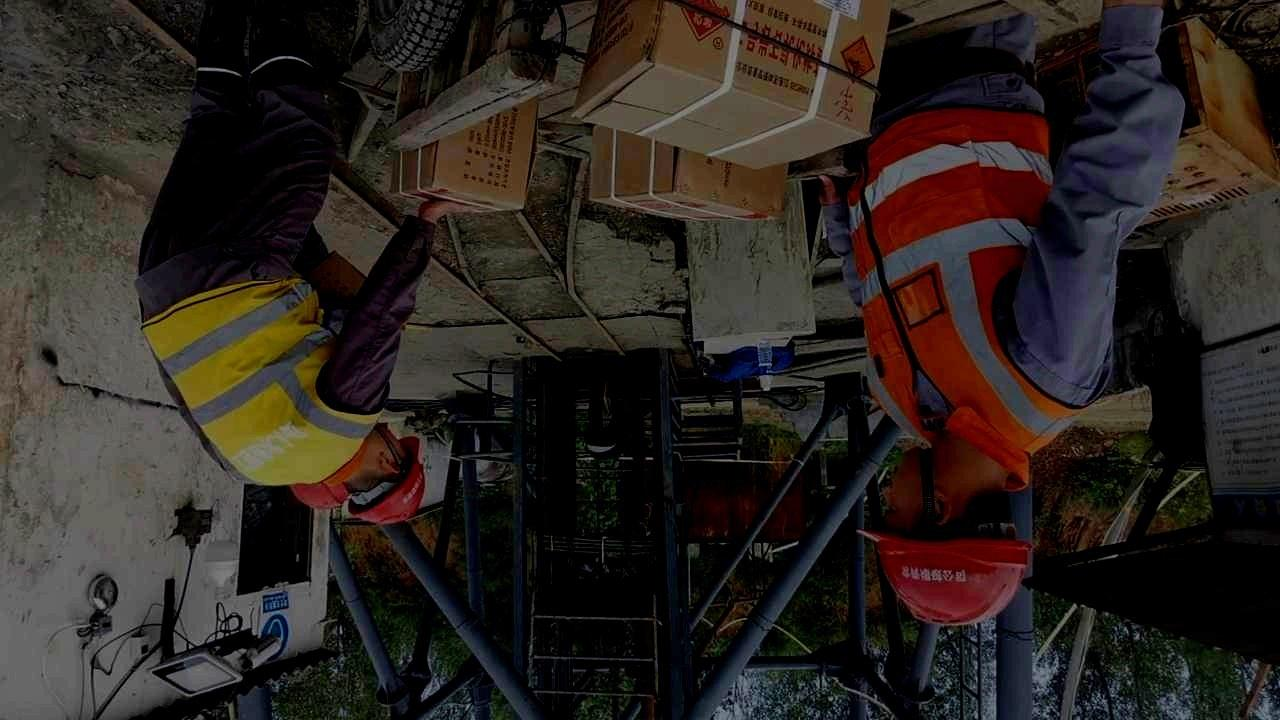helmet: (856, 444, 1034, 625), (323, 422, 425, 525)
